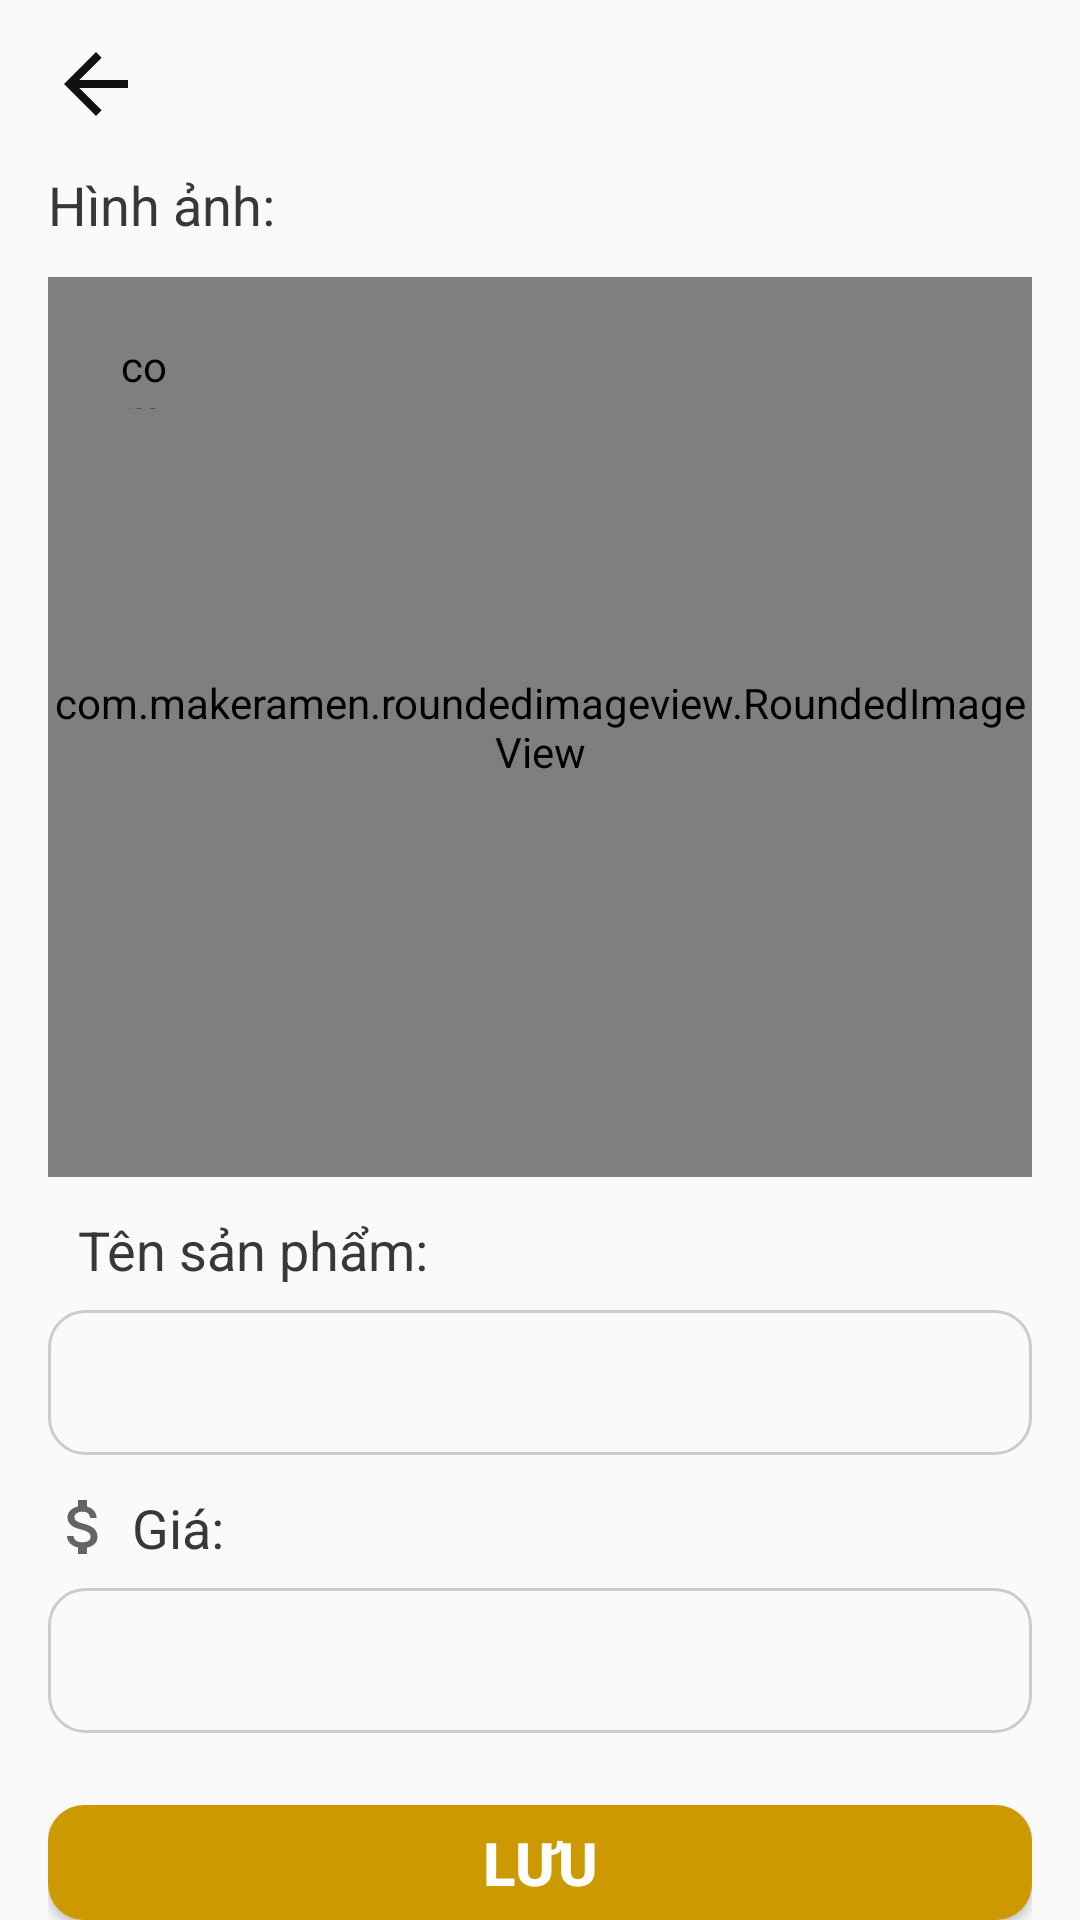

Named icons in this screenshot (1080w x 1920h) and their centers, (x,y):
arrow back: (96,84)
attach money: (82,1527)
